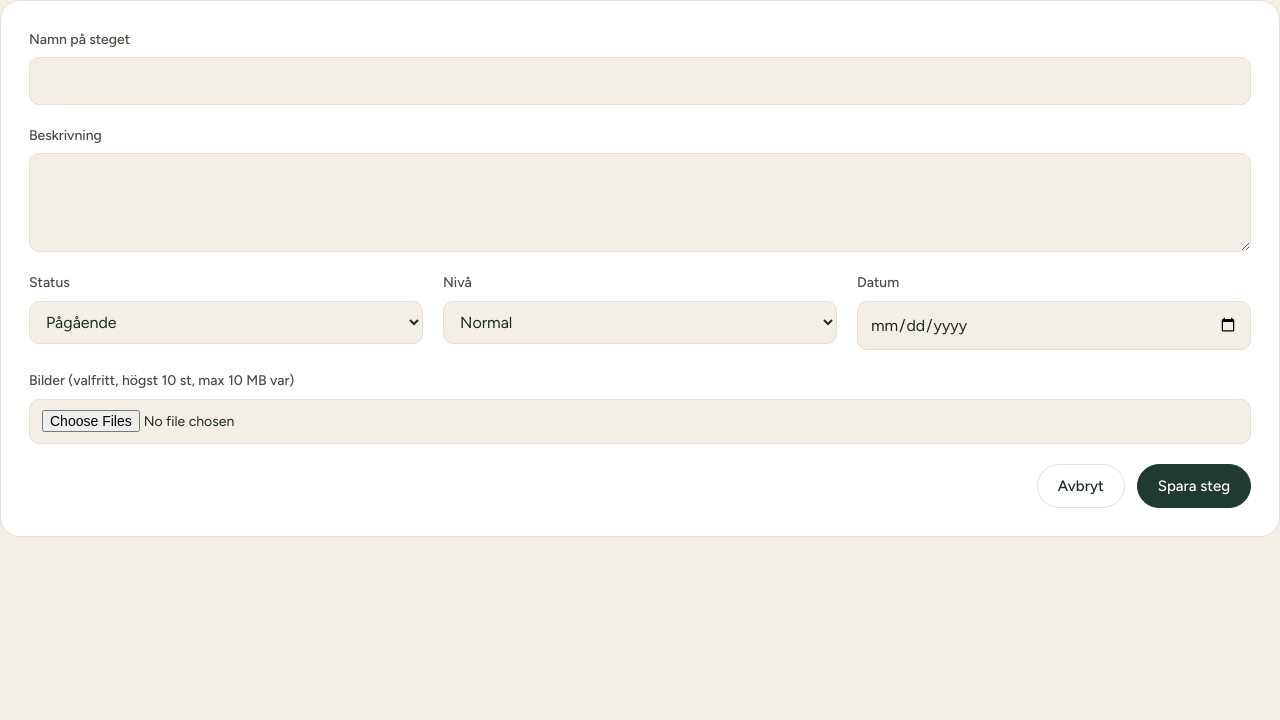
StepForm: new step › shows the error from the server
Type "Måla" into the field labelled "Namn på steget". click: coordinates (640, 81)
box: [29,57,1251,105]
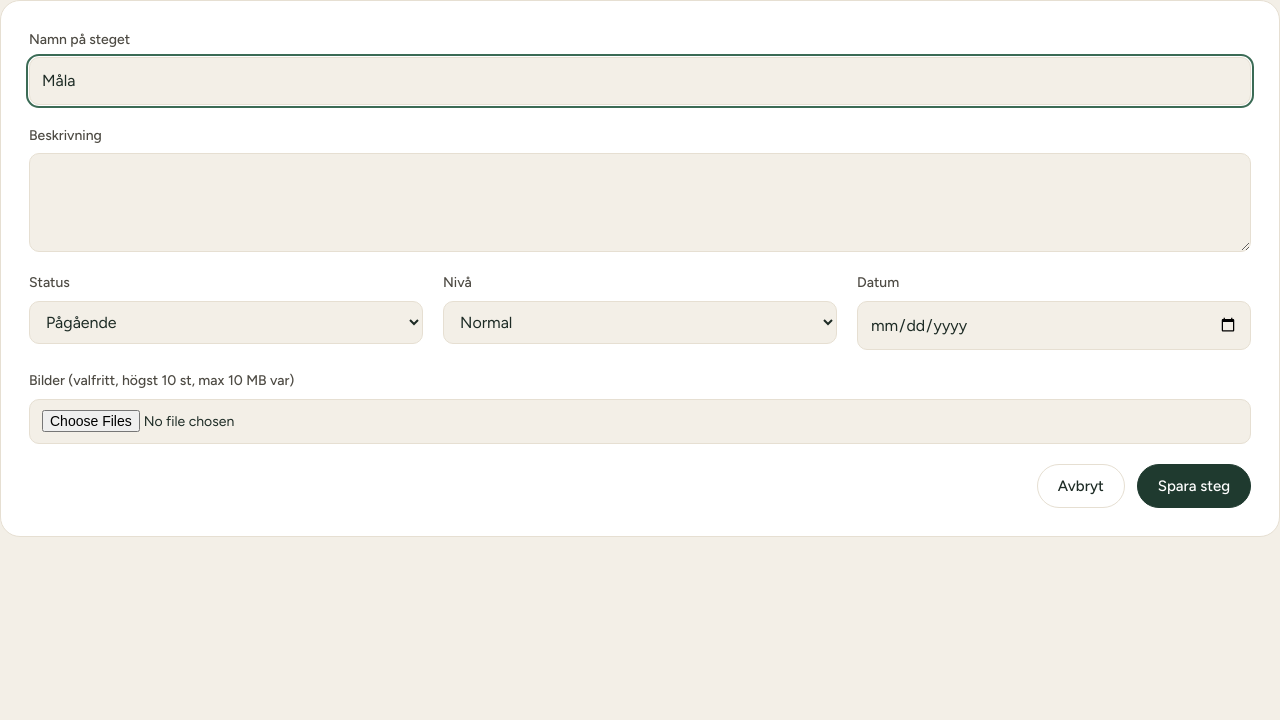
Click the button "Spara steg". click: coordinates (1194, 486)
box: [1137,464,1251,508]
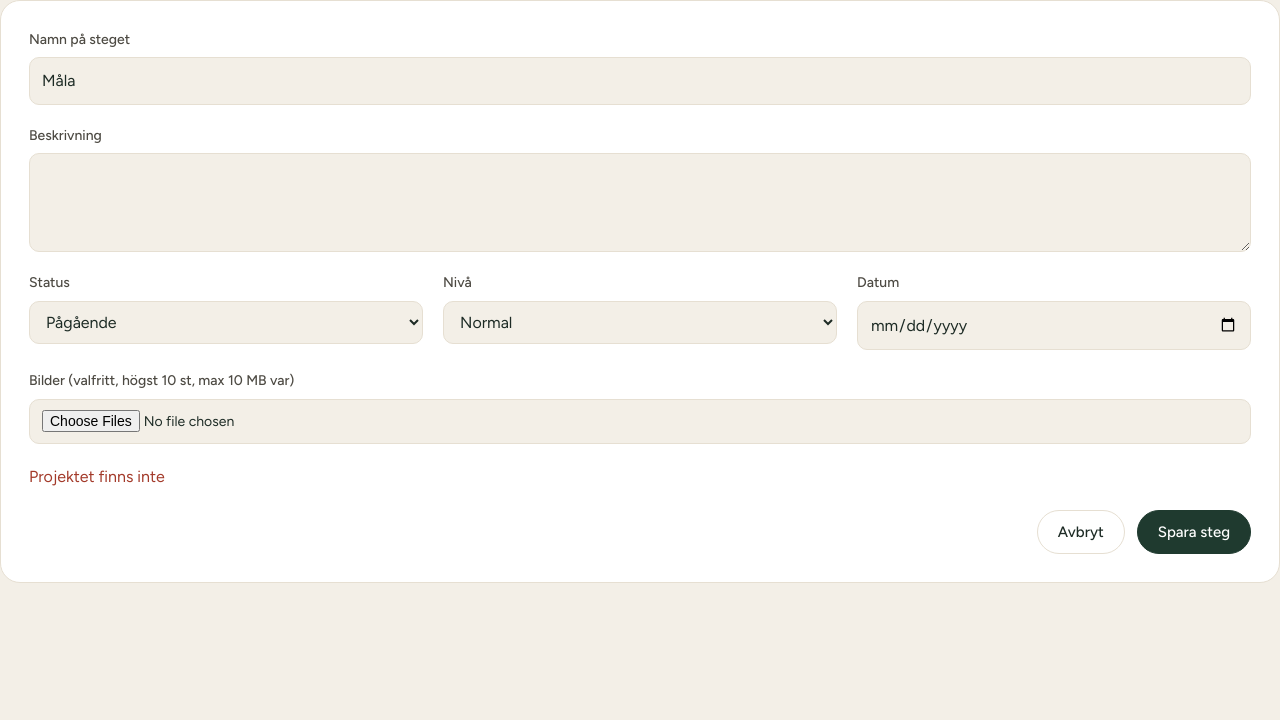
Expected: the message reads "Projektet finns inte", [29,467,165,486]
